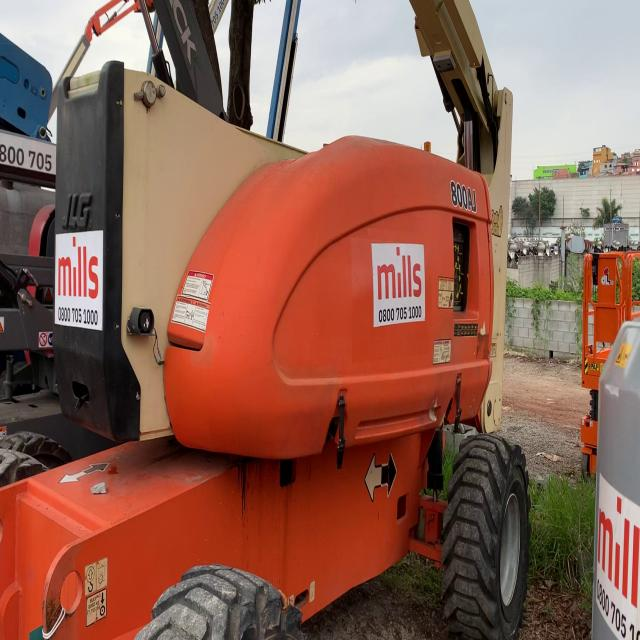Adesivos: (53, 229, 104, 332), (371, 240, 427, 328)
